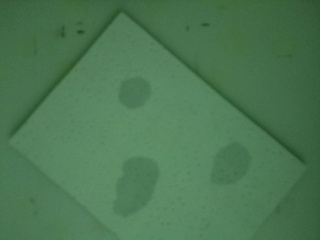Water_detected: (120, 155, 164, 213), (211, 150, 246, 185), (120, 73, 149, 111)
